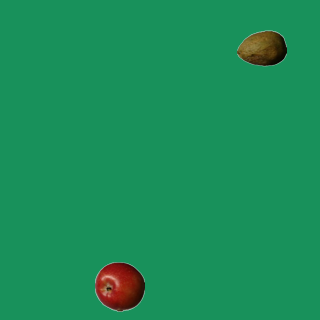Apple Braeburn: (94, 261, 144, 311)
Papaya: (236, 23, 286, 73)
